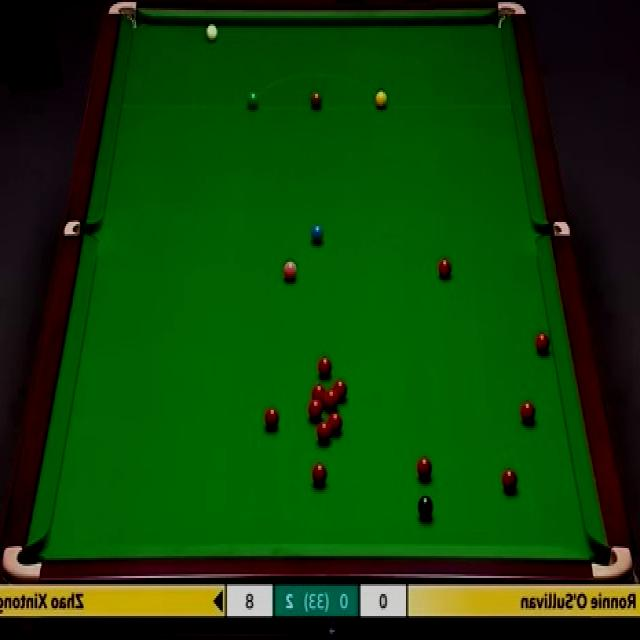black-ball: (417, 496, 433, 523)
blue-ball: (310, 222, 324, 245)
brown-ball: (310, 88, 322, 110)
green-ball: (247, 92, 260, 111)
pink-ball: (283, 260, 297, 281)
red-ball: (310, 462, 328, 489), (501, 467, 519, 494), (535, 332, 552, 358), (520, 398, 536, 425), (264, 406, 279, 433), (416, 456, 432, 480), (317, 423, 332, 448), (318, 356, 332, 380), (334, 378, 348, 402), (329, 413, 343, 436), (438, 257, 452, 278), (309, 400, 322, 421), (312, 385, 325, 405), (325, 389, 338, 408)
white-ball: (205, 20, 220, 46)
yellow-ball: (375, 90, 388, 111)
